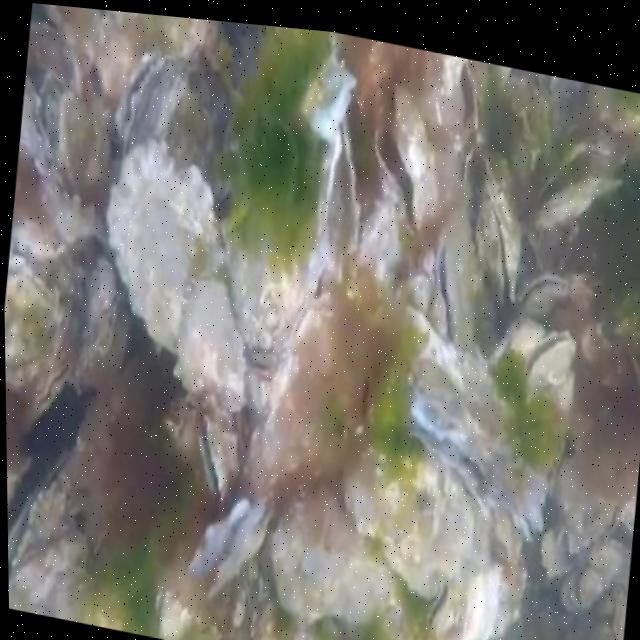Oyster-Closed: (527, 134, 624, 229), (8, 453, 81, 570), (4, 255, 63, 383), (431, 207, 477, 347), (473, 180, 522, 301), (115, 49, 168, 144), (303, 51, 354, 140), (27, 361, 73, 420), (419, 582, 464, 640), (515, 273, 570, 320), (154, 585, 200, 640), (490, 509, 520, 565), (228, 578, 251, 628)
Oyster-Indeterminate: (108, 138, 224, 353), (347, 450, 473, 597), (171, 276, 246, 406), (72, 254, 115, 391), (459, 558, 527, 640), (59, 96, 110, 180), (43, 186, 92, 245), (490, 318, 545, 368), (96, 31, 134, 92), (591, 84, 640, 129), (540, 529, 576, 578), (161, 16, 205, 56), (7, 447, 30, 507), (580, 569, 603, 601)
Oyster-Open: (262, 295, 337, 468), (375, 82, 440, 234), (187, 492, 271, 603), (318, 116, 361, 255), (412, 359, 470, 443), (198, 417, 242, 500), (523, 330, 577, 391), (456, 58, 480, 135)
